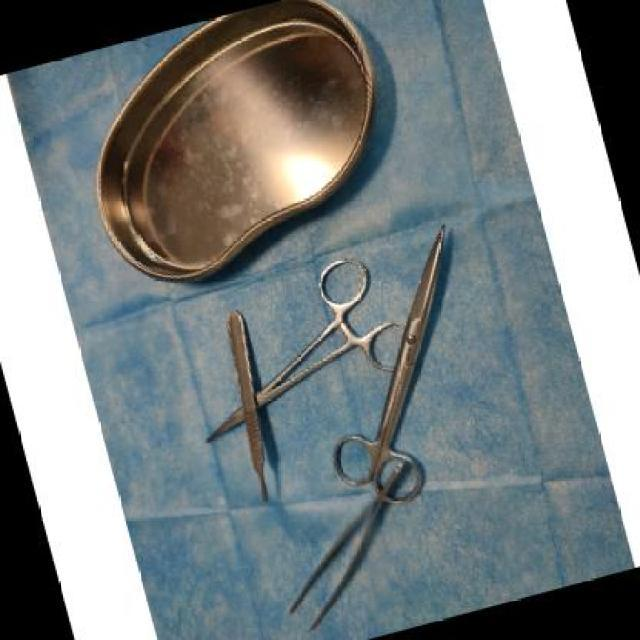Monitor: (79, 0, 515, 640)
